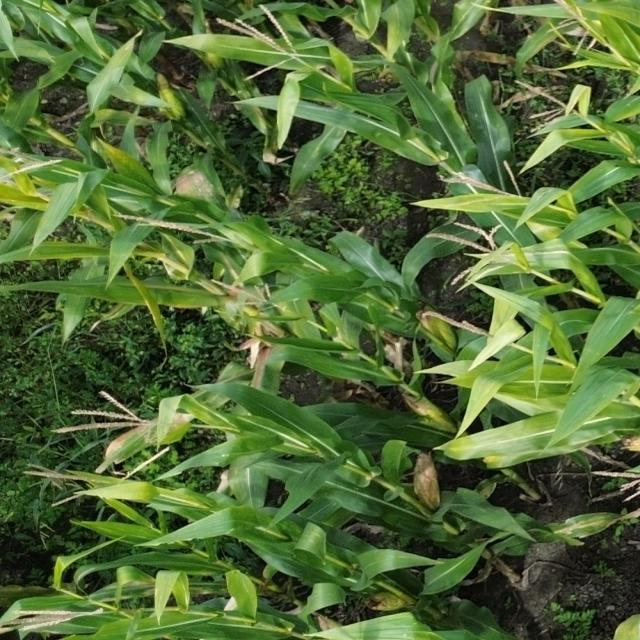northern-leaf-blight: (112, 423, 182, 455), (553, 517, 612, 538), (258, 352, 276, 384)
